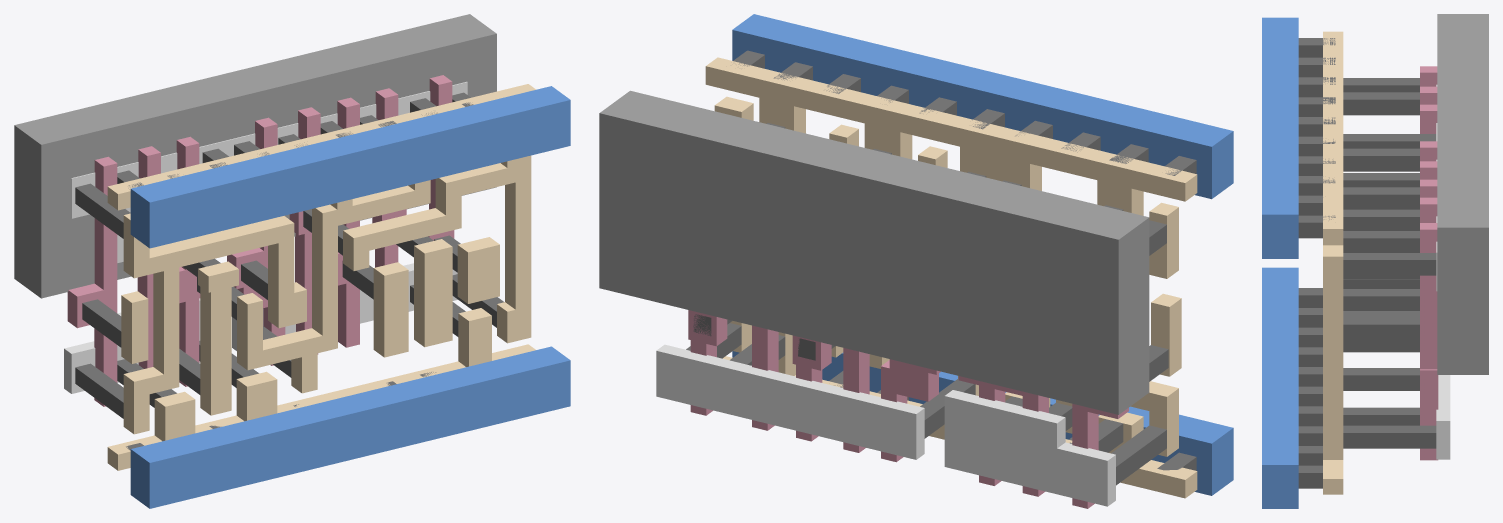
File: sky130_fd_sc_hd__and4bb_2.gds.gltf
3 renders of one model, left to right at view 1: azimuth 30°, elevation 25°; view 2: azimuth 150°, elevation 25°; view 3: azimuth 270°, elevation 25°, orthographic. The views are drawn at different scales.
Visible parts, largest first — view 1: sky130_fd_sc_hd__and4bb_2_li1, sky130_fd_sc_hd__and4bb_2_met1, sky130_fd_sc_hd__and4bb_2_nwell, sky130_fd_sc_hd__and4bb_2_poly, sky130_fd_sc_hd__and4bb_2_licon, sky130_fd_sc_hd__and4bb_2_diff; view 2: sky130_fd_sc_hd__and4bb_2_nwell, sky130_fd_sc_hd__and4bb_2_li1, sky130_fd_sc_hd__and4bb_2_met1, sky130_fd_sc_hd__and4bb_2_diff, sky130_fd_sc_hd__and4bb_2_poly, sky130_fd_sc_hd__and4bb_2_licon, sky130_fd_sc_hd__and4bb_2_mcon; view 3: sky130_fd_sc_hd__and4bb_2_licon, sky130_fd_sc_hd__and4bb_2_nwell, sky130_fd_sc_hd__and4bb_2_met1, sky130_fd_sc_hd__and4bb_2_mcon, sky130_fd_sc_hd__and4bb_2_li1, sky130_fd_sc_hd__and4bb_2_poly, sky130_fd_sc_hd__and4bb_2_diff.
Boxes of the visible parts, x1,y1,x2,y2 form: sky130_fd_sc_hd__and4bb_2_li1: (107,84,535,470); sky130_fd_sc_hd__and4bb_2_met1: (130,86,570,508); sky130_fd_sc_hd__and4bb_2_nwell: (14,14,496,298); sky130_fd_sc_hd__and4bb_2_poly: (67,75,454,406); sky130_fd_sc_hd__and4bb_2_licon: (75,92,504,418); sky130_fd_sc_hd__and4bb_2_diff: (64,81,467,393); sky130_fd_sc_hd__and4bb_2_nwell: (599,90,1149,414); sky130_fd_sc_hd__and4bb_2_li1: (705,57,1197,498); sky130_fd_sc_hd__and4bb_2_met1: (732,14,1233,495); sky130_fd_sc_hd__and4bb_2_diff: (656,344,1115,506); sky130_fd_sc_hd__and4bb_2_poly: (688,310,1128,508); sky130_fd_sc_hd__and4bb_2_licon: (686,123,1168,485); sky130_fd_sc_hd__and4bb_2_mcon: (733,50,1196,470); sky130_fd_sc_hd__and4bb_2_licon: (1343,78,1436,448); sky130_fd_sc_hd__and4bb_2_nwell: (1437,14,1488,374); sky130_fd_sc_hd__and4bb_2_met1: (1262,17,1298,508); sky130_fd_sc_hd__and4bb_2_mcon: (1298,38,1335,488); sky130_fd_sc_hd__and4bb_2_li1: (1323,31,1343,494); sky130_fd_sc_hd__and4bb_2_poly: (1420,66,1438,460); sky130_fd_sc_hd__and4bb_2_diff: (1436,84,1450,459).
Bounding box in the file's own units: 4.98 × 3.2 × 2.24.
